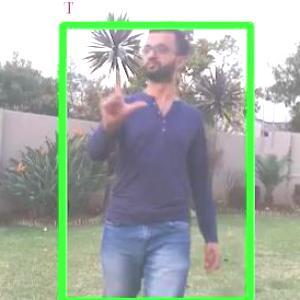land_hand: (89, 64, 153, 122)
